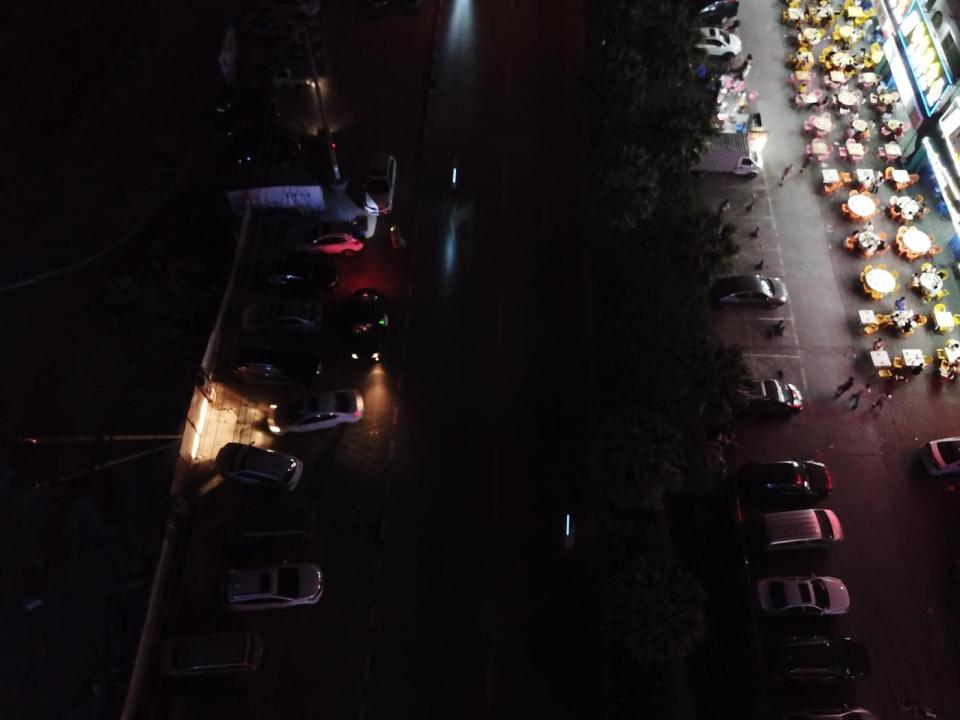car: (764, 633, 871, 687), (219, 560, 323, 612), (266, 388, 365, 437), (736, 456, 832, 506), (214, 441, 304, 494), (755, 572, 850, 620), (232, 340, 323, 383), (342, 287, 388, 364), (255, 255, 340, 296), (241, 298, 324, 339), (286, 221, 366, 258), (708, 274, 788, 310), (361, 151, 398, 216), (686, 26, 745, 60), (919, 436, 960, 477), (683, 0, 740, 25), (390, 223, 407, 249)
truck: (686, 132, 763, 180)
van: (155, 630, 269, 678), (753, 507, 844, 554), (224, 506, 316, 548), (724, 379, 804, 421)
